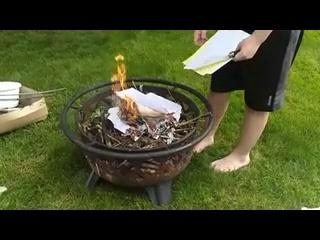Fire: (104, 52, 140, 127)
